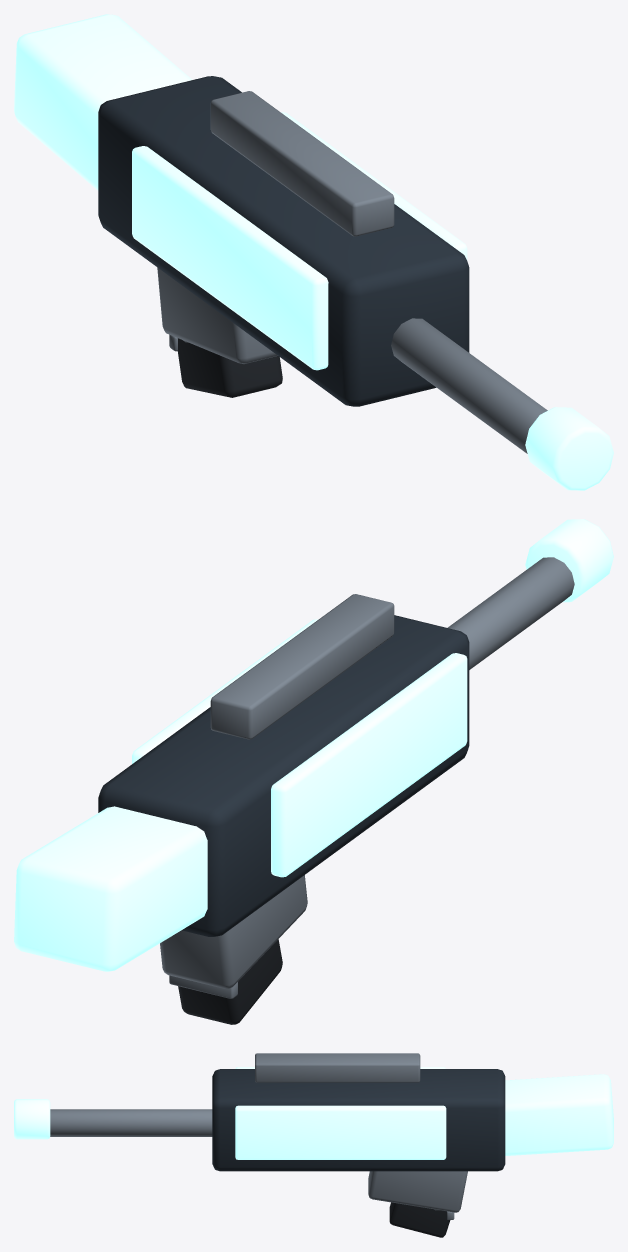
Rendered from Pathfinder_LightAssaultRifle.fbx.
3 renders of one model, top to bottom at view 1: azimuth 30°, elevation 25°; view 2: azimuth 150°, elevation 25°; view 3: azimuth 270°, elevation 25°, orthographic. The views are drawn at different scales.
Visible parts, largest first — view 1: Receiver.001, SideArmorLeft, Stock, TopRail.001, Barrel_00, MuzzleBrake, Magazine, Grip.001, SideArmorRight; view 2: Receiver.001, Stock, SideArmorLeft, TopRail.001, Magazine, Barrel_00, MuzzleBrake, Grip.001, SideArmorRight; view 3: Receiver.001, SideArmorRight, Stock, TopRail.001, Barrel_00, Magazine, MuzzleBrake, Grip.001.
Boxes of the visible parts, x1=… form: Receiver.001: x1=98, y1=76, x2=469, y2=406; SideArmorLeft: x1=132, y1=146, x2=328, y2=370; Stock: x1=14, y1=14, x2=192, y2=190; TopRail.001: x1=210, y1=91, x2=394, y2=236; Barrel_00: x1=391, y1=318, x2=547, y2=453; MuzzleBrake: x1=525, y1=407, x2=613, y2=490; Magazine: x1=157, y1=267, x2=277, y2=363; Grip.001: x1=177, y1=338, x2=282, y2=397; SideArmorRight: x1=281, y1=112, x2=467, y2=260; Receiver.001: x1=98, y1=615, x2=469, y2=936; Stock: x1=14, y1=806, x2=207, y2=971; SideArmorLeft: x1=271, y1=653, x2=467, y2=877; TopRail.001: x1=210, y1=594, x2=394, y2=739; Magazine: x1=160, y1=875, x2=307, y2=988; Barrel_00: x1=447, y1=557, x2=574, y2=669; MuzzleBrake: x1=525, y1=519, x2=613, y2=602; Grip.001: x1=178, y1=939, x2=282, y2=1024; SideArmorRight: x1=132, y1=619, x2=318, y2=763; Receiver.001: x1=212, y1=1069, x2=505, y2=1171; SideArmorRight: x1=235, y1=1105, x2=446, y2=1159; Stock: x1=505, y1=1074, x2=613, y2=1155; TopRail.001: x1=255, y1=1053, x2=420, y2=1082; Barrel_00: x1=50, y1=1109, x2=212, y2=1136; Magazine: x1=368, y1=1171, x2=467, y2=1212; MuzzleBrake: x1=14, y1=1099, x2=50, y2=1139; Grip.001: x1=389, y1=1202, x2=450, y2=1237.
Bounding box in the file's own units: 96 × 179 × 563.
